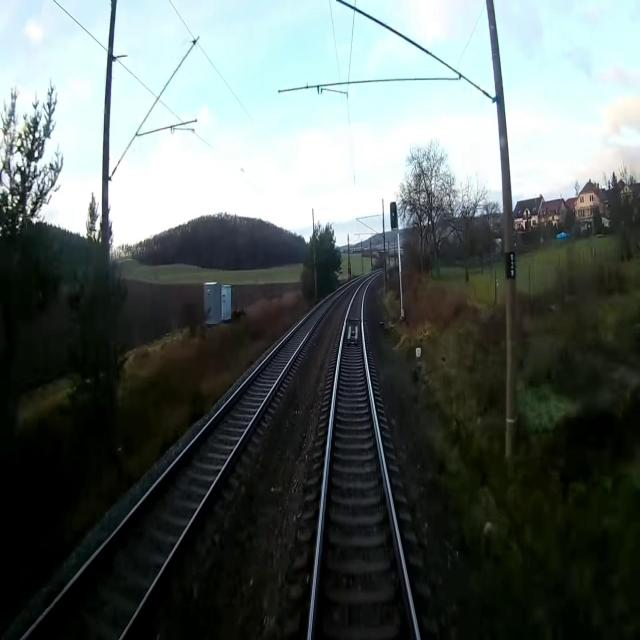rail-track: (27, 286, 345, 639), (311, 277, 416, 639)
